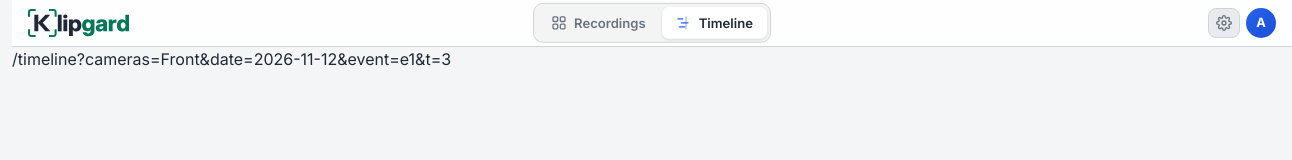
Test: Header nav [WEB-SHELL-071] › switches timeline → grid, drops the timeline-only params and remembers the mode [WEB-SHELL-072]
Click the link with test id "nav-grid".
click(598, 23)  # box [551,15,646,31]
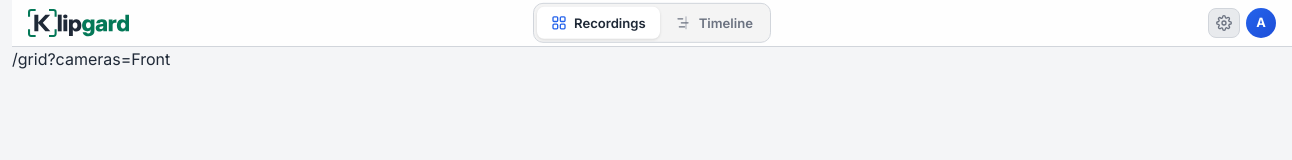
Check: the text with test id "where" reads "/grid?cameras=Front", box [12,49,170,69]
